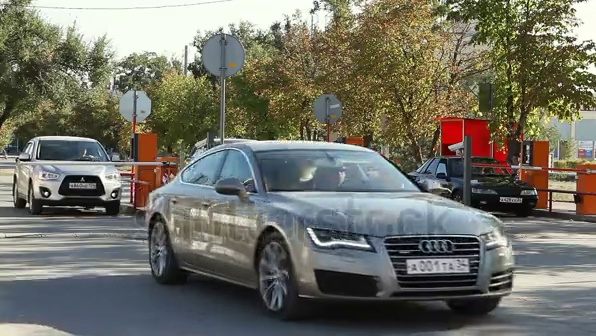licenseplate: (400, 257, 482, 276), (65, 179, 105, 192), (499, 191, 527, 201)
